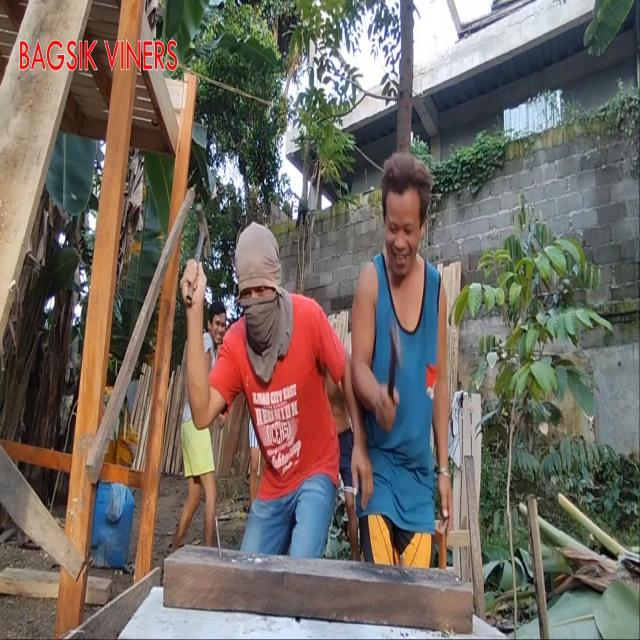hammer: (186, 202, 212, 305)
